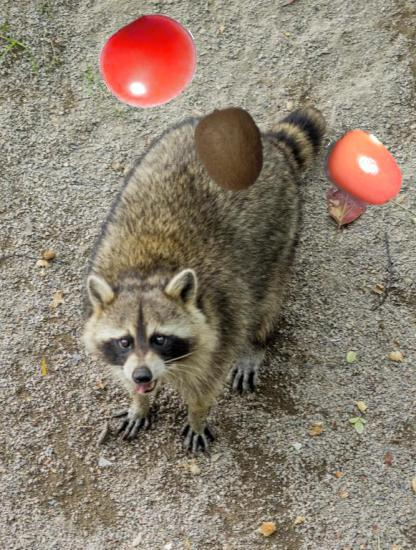Kaki: (321, 125, 408, 212)
Kiwi: (187, 106, 274, 193)
Tomato: (100, 12, 201, 113)
